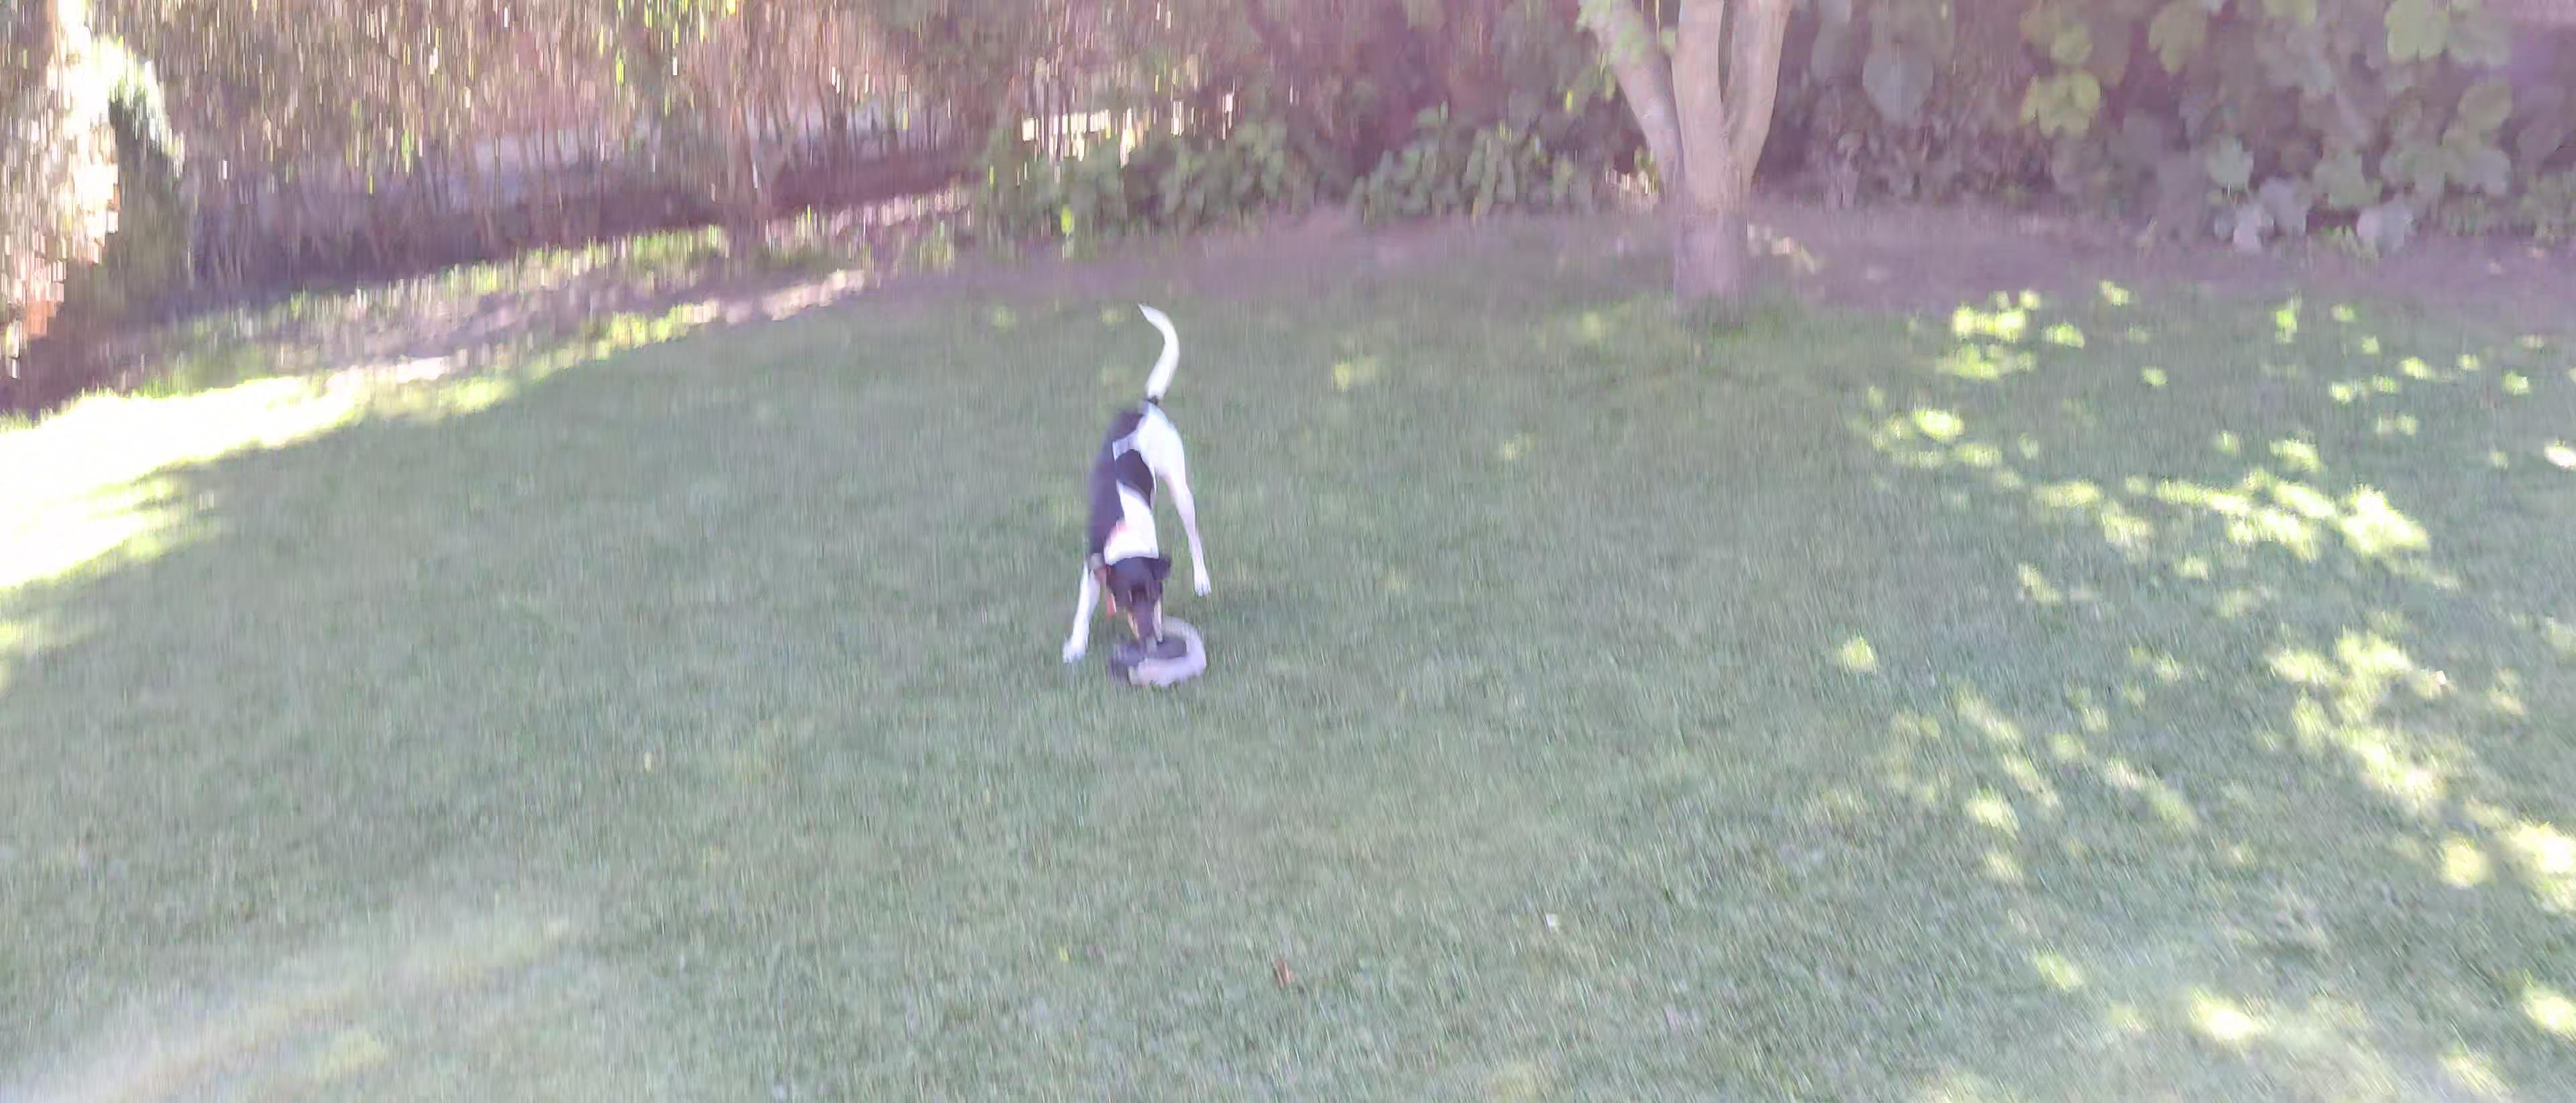Dog: (1048, 296, 1229, 672)
